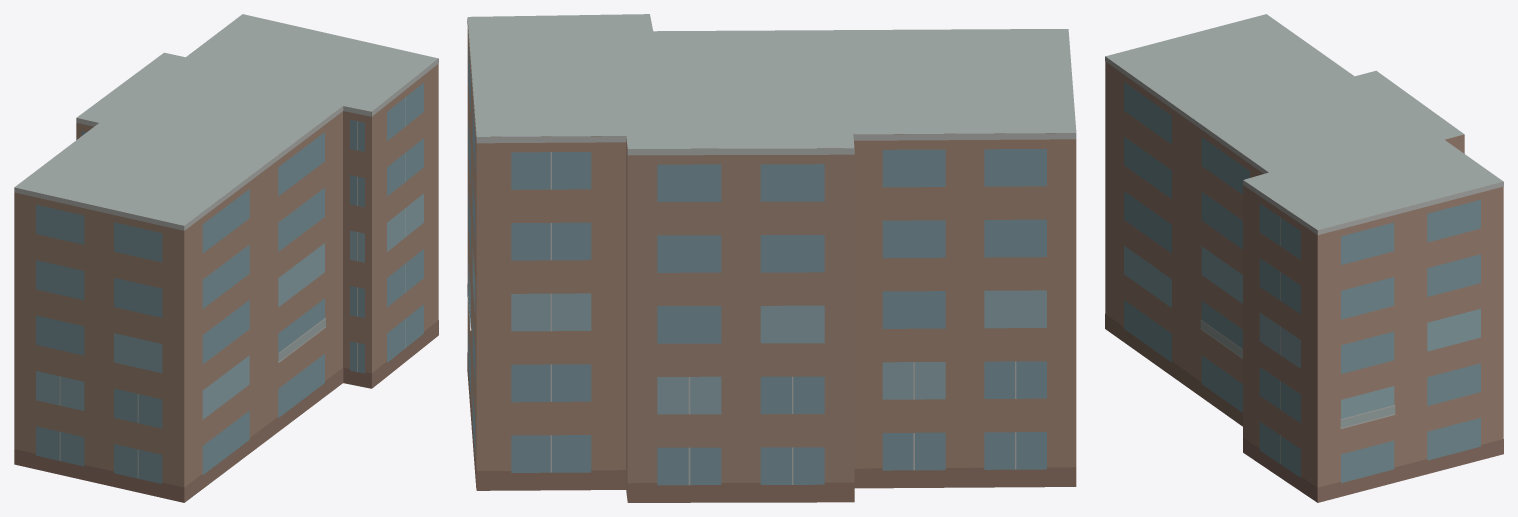
File: survey-upis-32999529.glb
3 views of the same model, side by side, from view 1: azimuth 30°, elevation 25°; view 2: azimuth 150°, elevation 25°; view 3: azimuth 270°, elevation 25° (orthographic). The views are drawn at different scales.
Parts seen in each view (by area): view 1: survey-upis-32999529.tmp; view 2: survey-upis-32999529.tmp; view 3: survey-upis-32999529.tmp.
Boxes of the visible parts, x1=… form: survey-upis-32999529.tmp: x1=14, y1=14, x2=438, y2=502; survey-upis-32999529.tmp: x1=467, y1=14, x2=1076, y2=502; survey-upis-32999529.tmp: x1=1105, y1=14, x2=1503, y2=502.
Bounding box in the file's own units: 22.99 × 13.5 × 17.9.
